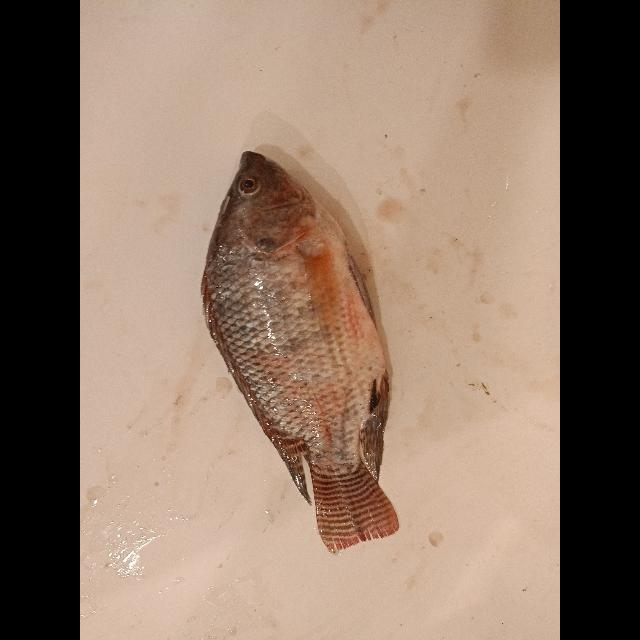Tilapia: (201, 150, 403, 554)
